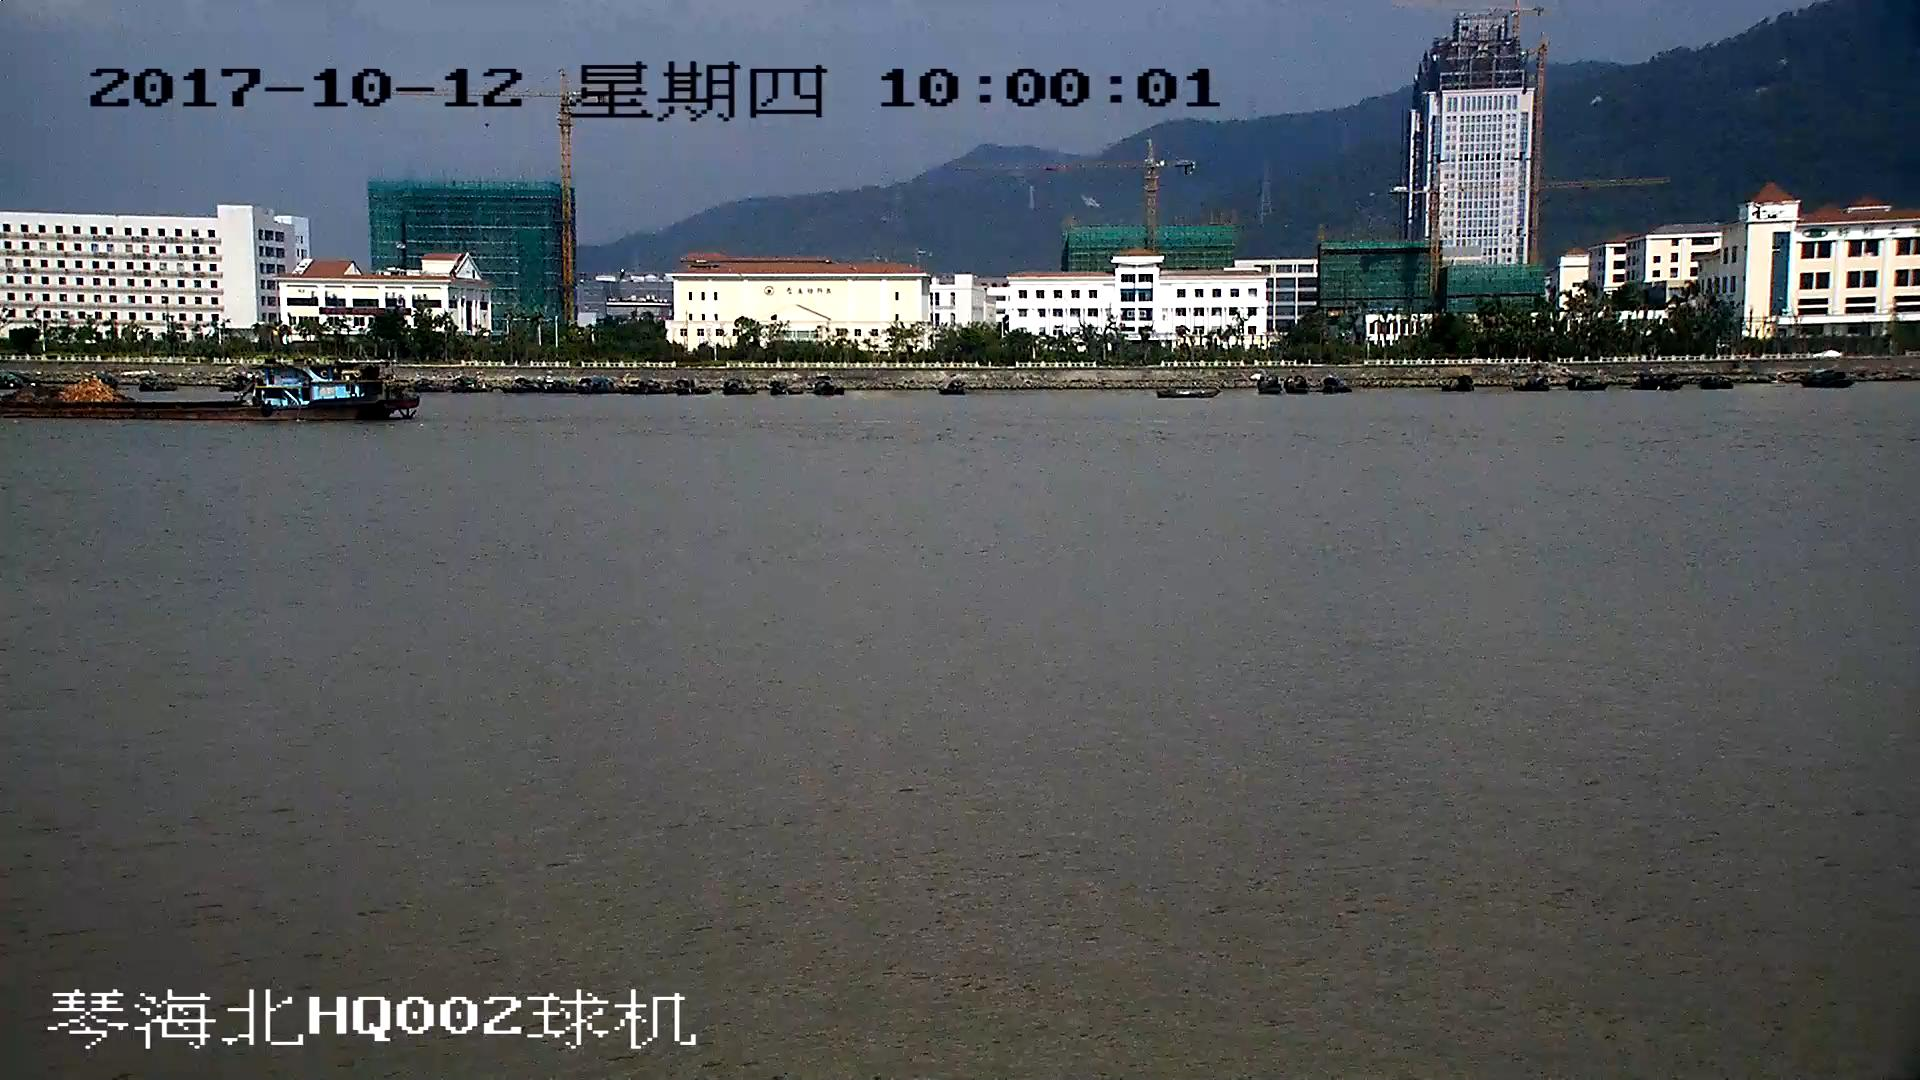ore carrier: (1, 355, 421, 423)
